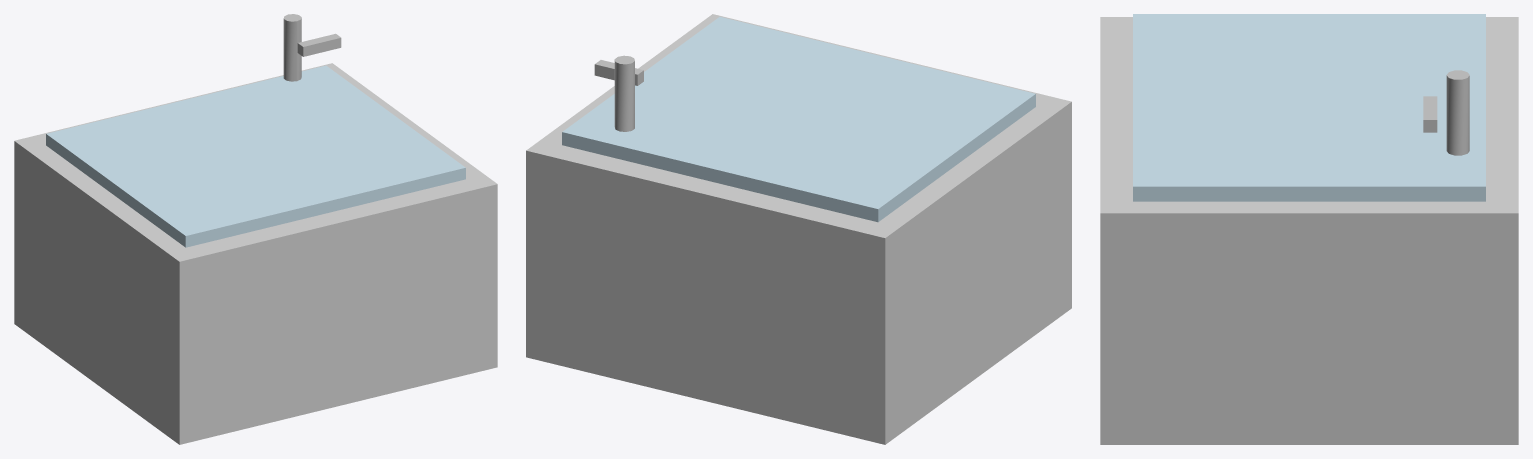
File: bathtub.gltf
3 renders of one model, left to right at view 1: azimuth 30°, elevation 25°; view 2: azimuth 150°, elevation 25°; view 3: azimuth 270°, elevation 25°, orthographic. The views are drawn at different scales.
Parts seen in each view (by area): view 1: hull, basin, faucet, tap; view 2: hull, basin, faucet; view 3: hull, basin, faucet, tap.
Boxes of the visible parts, x1,y1,x2,y2 form: hull: (14, 63, 497, 444); basin: (46, 65, 465, 247); faucet: (283, 14, 301, 81); tap: (297, 33, 341, 56); hull: (526, 14, 1071, 444); basin: (562, 17, 1035, 222); faucet: (614, 55, 634, 131); hull: (1100, 17, 1518, 444); basin: (1133, 14, 1485, 201); faucet: (1446, 70, 1469, 155); tap: (1423, 96, 1437, 132).
Bounding box in the file's own units: 1 × 0.785 × 0.9.
